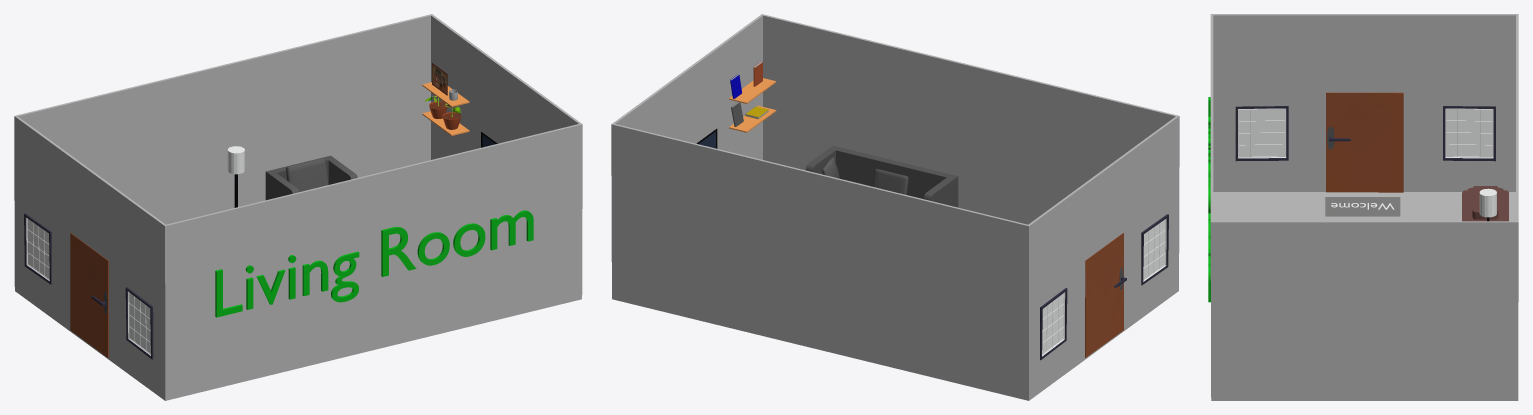
File: LV ROOM.fbx
The picture shows the model from 3 angles, left to right: view 1: azimuth 30°, elevation 25°; view 2: azimuth 150°, elevation 25°; view 3: azimuth 270°, elevation 25°; orthographic projection. The views are drawn at different scales.
Parts seen in each view (by area): view 1: LV-ROOM, Text: LV Room, Door-LV, Windows, Sofa-2, Sofa-Couchon-2.001, Windows-Frame, Shelf-2; view 2: LV-ROOM, Door-LV, Sofa, Windows, Windows-Frame, Shelf-2, Sofa-Couchon.001; view 3: LV-ROOM, Door-LV, Windows, Carpet-Welcome, Windows-Frame, Podium, Text: LV Room, Light.
Part boxes in pixels (bbox=[...]): LV-ROOM: bbox=[14, 14, 582, 400]; Text: LV Room: bbox=[215, 210, 533, 317]; Door-LV: bbox=[70, 233, 108, 357]; Windows: bbox=[26, 218, 150, 355]; Sofa-2: bbox=[265, 155, 357, 200]; Sofa-Couchon-2.001: bbox=[286, 158, 328, 191]; Windows-Frame: bbox=[24, 213, 153, 359]; Shelf-2: bbox=[422, 82, 469, 135]; LV-ROOM: bbox=[611, 14, 1179, 400]; Door-LV: bbox=[1085, 233, 1123, 357]; Sofa: bbox=[805, 145, 958, 207]; Windows: bbox=[1042, 218, 1166, 356]; Windows-Frame: bbox=[1040, 214, 1168, 360]; Shelf-2: bbox=[729, 78, 776, 132]; Sofa-Couchon.001: bbox=[872, 168, 908, 194]; LV-ROOM: bbox=[1210, 14, 1518, 400]; Door-LV: bbox=[1326, 92, 1403, 192]; Windows: bbox=[1238, 108, 1493, 158]; Carpet-Welcome: bbox=[1325, 197, 1400, 216]; Windows-Frame: bbox=[1235, 106, 1495, 161]; Podium: bbox=[1462, 186, 1508, 221]; Text: LV Room: bbox=[1208, 97, 1210, 302]; Light: bbox=[1479, 188, 1496, 217].
Size of the model in its own units: 2557 by 1012 by 1592.
32 materials, 32 textured.
